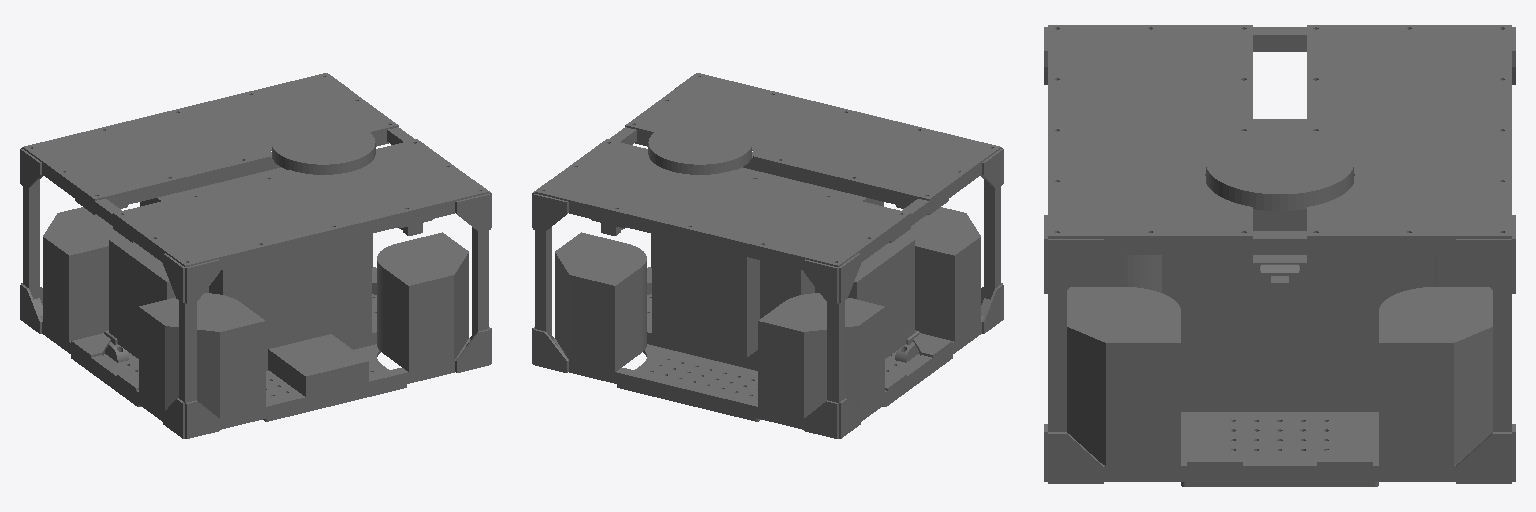
robot.urdf — tidybot_habitat_pe:
<?xml version="1.0" ?>
<!-- PhysX-driven Habitat PE TidyBot base.  The planar gantry is actuated;
     obstacle response comes from the base collider and the physics solver. -->
<robot name="tidybot_habitat_pe">
  <link name="world"/>

  <link name="joint_x_jointbody">
    <inertial>
      <origin rpy="0 0 0" xyz="0 0 0"/>
      <mass value="0.001"/>
      <inertia ixx="1e-6" ixy="0" ixz="0" iyy="1e-6" iyz="0" izz="1e-6"/>
    </inertial>
  </link>
  <joint name="joint_x" type="prismatic">
    <parent link="world"/>
    <child link="joint_x_jointbody"/>
    <axis xyz="1 0 0"/>
    <limit effort="1000" lower="-1024" upper="1024" velocity="5"/>
  </joint>

  <link name="joint_y_jointbody">
    <inertial>
      <origin rpy="0 0 0" xyz="0 0 0"/>
      <mass value="0.001"/>
      <inertia ixx="1e-6" ixy="0" ixz="0" iyy="1e-6" iyz="0" izz="1e-6"/>
    </inertial>
  </link>
  <joint name="joint_y" type="prismatic">
    <parent link="joint_x_jointbody"/>
    <child link="joint_y_jointbody"/>
    <axis xyz="0 1 0"/>
    <limit effort="1000" lower="-1024" upper="1024" velocity="5"/>
  </joint>

  <link name="joint_th_jointbody">
    <inertial>
      <origin rpy="0 0 0" xyz="0 0 0"/>
      <mass value="0.001"/>
      <inertia ixx="1e-6" ixy="0" ixz="0" iyy="1e-6" iyz="0" izz="1e-6"/>
    </inertial>
  </link>
  <joint name="joint_th" type="revolute">
    <parent link="joint_y_jointbody"/>
    <child link="joint_th_jointbody"/>
    <axis xyz="0 0 1"/>
    <limit effort="500" lower="-1024" upper="1024" velocity="10"/>
  </joint>

  <link name="base">
    <inertial>
      <origin rpy="0 0 0" xyz="0 0 0"/>
      <mass value="34"/>
      <inertia ixx="0.141667" ixy="0" ixz="0" iyy="0.141667" iyz="0" izz="0.226667"/>
    </inertial>
    <visual>
      <origin rpy="0 0 0" xyz="-0.3066 0.06523 0.085"/>
      <geometry>
        <mesh filename="../meshes/base/tidybot++/Kinova.stl" scale="1 1 1"/>
      </geometry>
      <material name="grey">
        <color rgba="0.5 0.5 0.5 1"/>
      </material>
    </visual>
    <collision>
      <origin rpy="0 0 0" xyz="0 0 0"/>
      <geometry>
        <box size="0.2 0.2 0.1"/>
      </geometry>
    </collision>
  </link>
  <joint name="joint_body_mount" type="fixed">
    <parent link="joint_th_jointbody"/>
    <child link="base"/>
  </joint>
</robot>

--- Render facts (derived) ---
Views: 3 orthographic renders of the robot side by side, from view 1: azimuth 30°, elevation 25°; view 2: azimuth 150°, elevation 25°; view 3: azimuth 270°, elevation 25°.
Robot: tidybot_habitat_pe — 5 links, 4 joints (1 revolute, 2 prismatic, 1 fixed); root link world; default pose: all joints at 0.
Visible links, largest first — view 1: base; view 2: base; view 3: base.
Boxes of the visible links, x1,y1,x2,y2 form: base: (20, 73, 491, 438); base: (532, 73, 1003, 438); base: (1044, 25, 1515, 486).
Size in the robot's own frame: 0.548 by 0.508 by 0.316 metres.
Meshes: 1 distinct files referenced, 1 mesh visuals loaded (1 binary STL).
